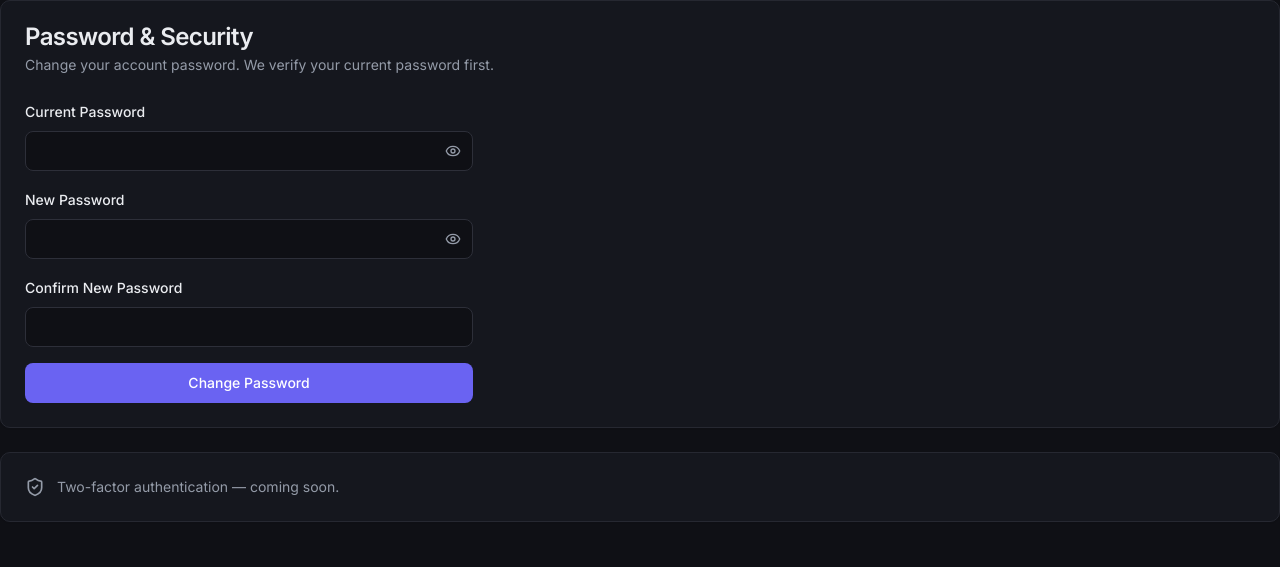
Scenario: SecuritySettings › blocks submit and shows an error when the current password is empty
The width and height of the screenshot is (1280, 567).
Step 1. Type "newpassword1" into the password field labelled "New Password" → x=249, y=239, box [25,219,473,259]
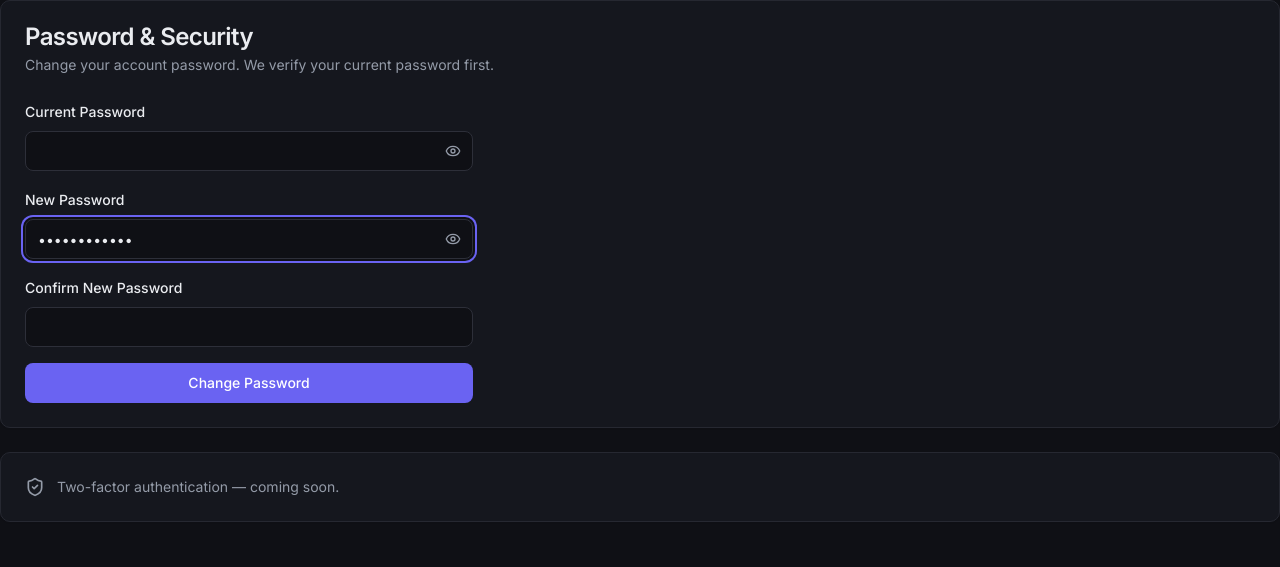
Step 2. Type "newpassword1" into the password field labelled "Confirm New Password" → x=249, y=327, box [25,307,473,347]
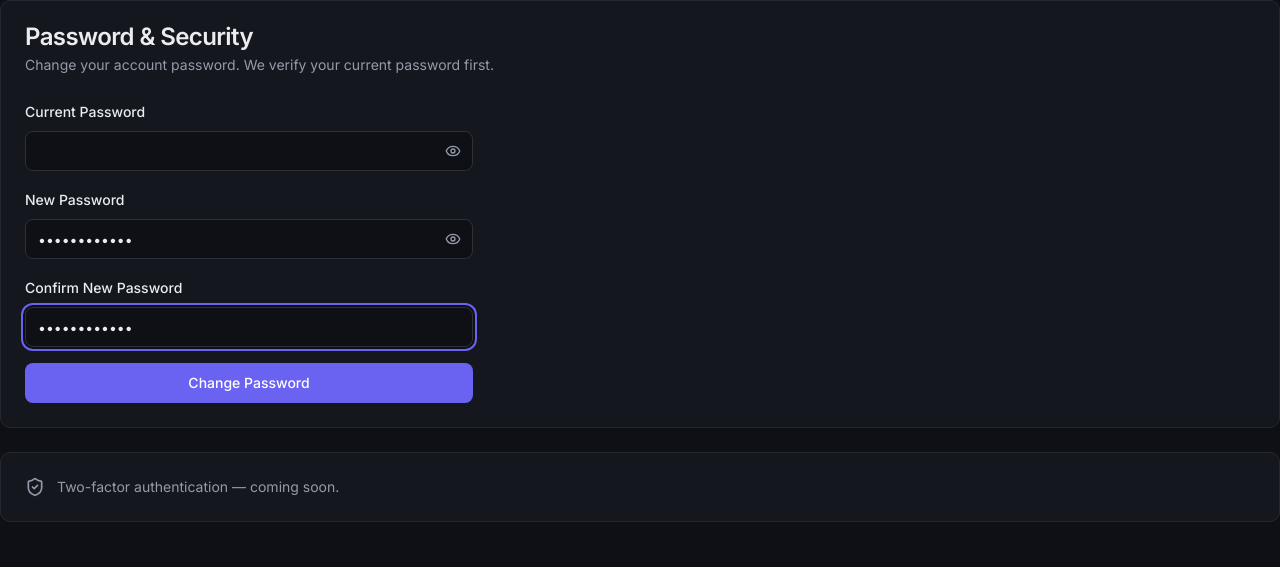
Step 3. Click the button "Change Password" → x=249, y=383, box [25,363,473,403]
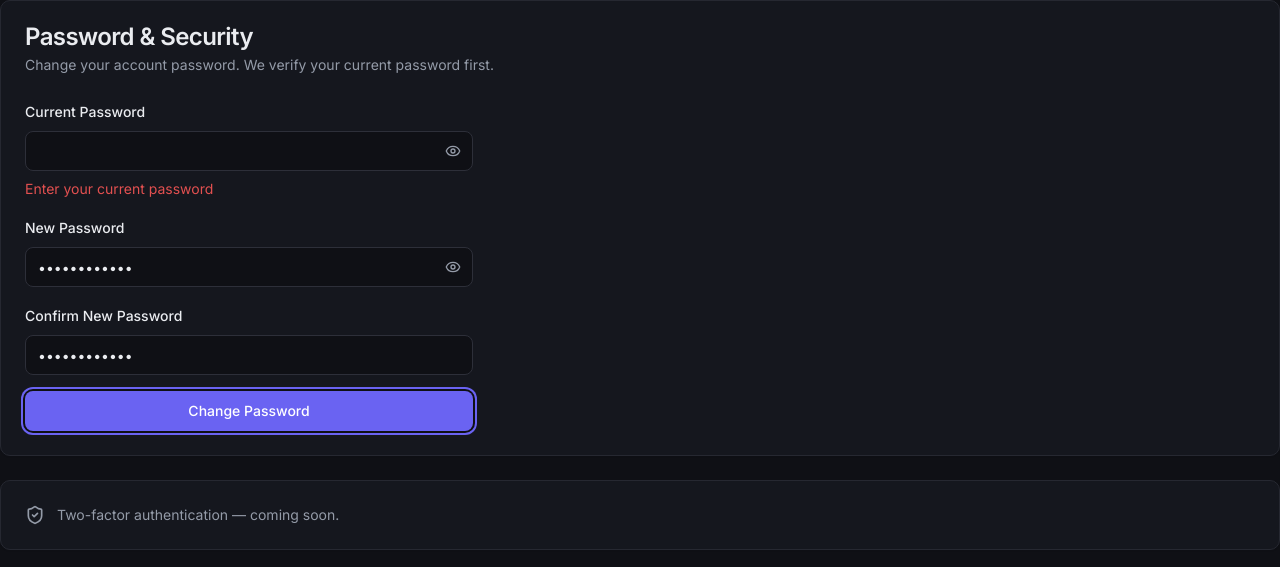
Expected: the text "Enter your current password" is shown, [25,180,213,197]
